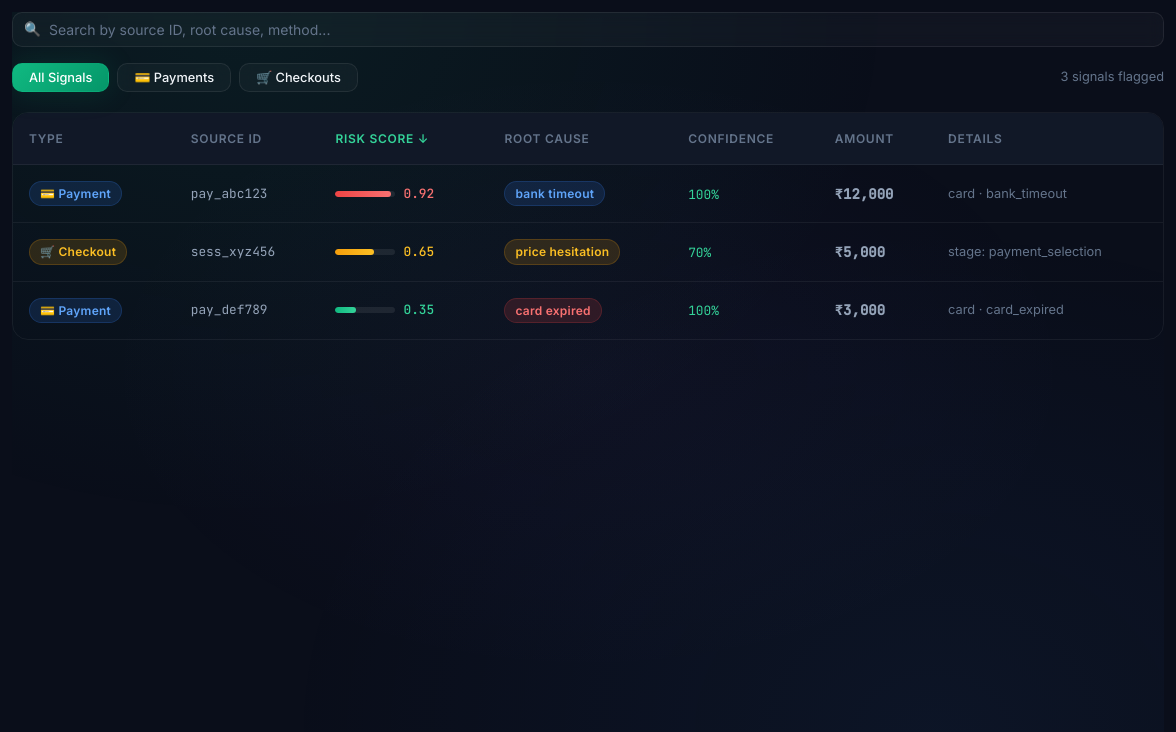
Test: SignalTable › FE-SIG-14: clicking Risk Score header toggles sort direction
Expected: the text "3 signals flagged" is shown, [1061,67,1164,88]
What coordinates should you click on to do the following:
click the column heading "Risk Score ↓"
I would click on:
 (404, 139)
Its box is [320,113,488,165].
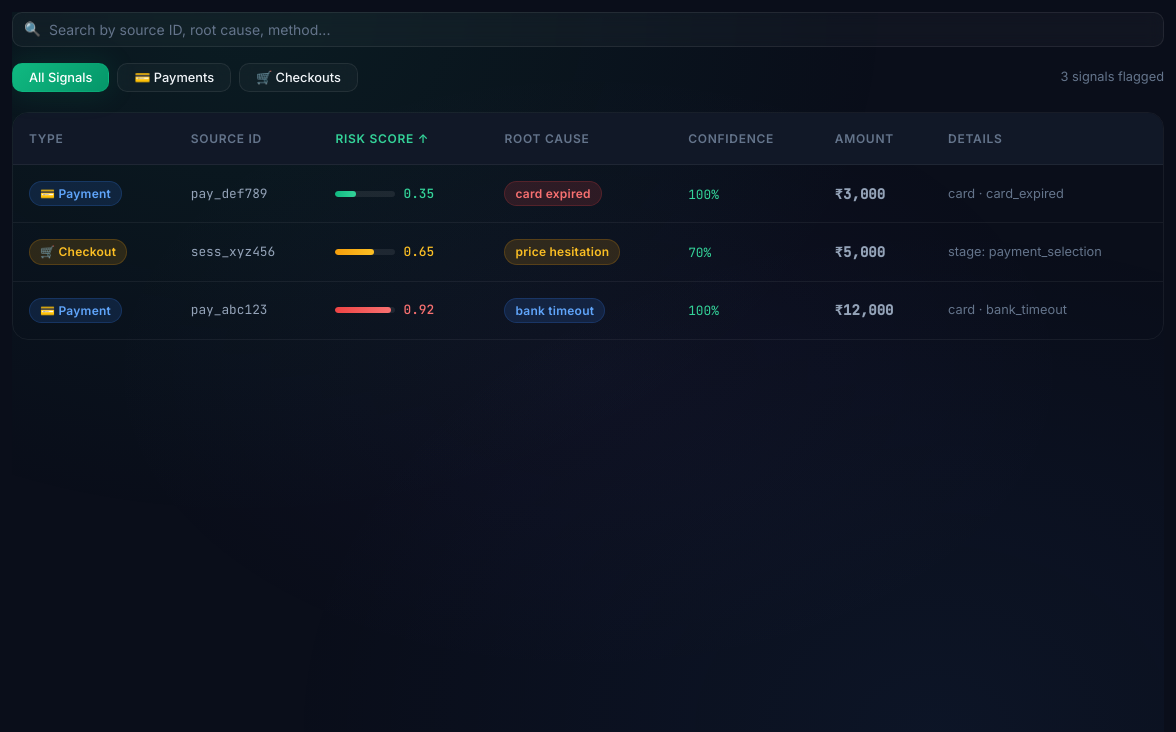
Expected: the column heading "Risk Score ↑" is shown, [320,113,488,165]
